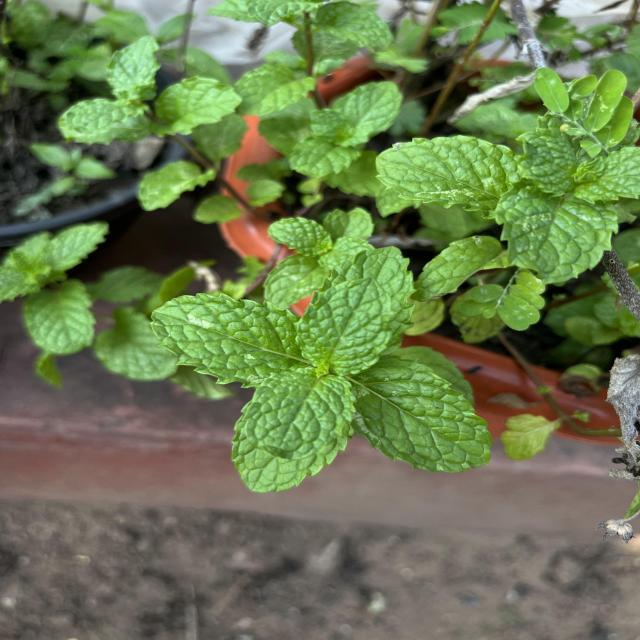Mentha spicata: (349, 354, 494, 474), (229, 368, 355, 494), (148, 290, 302, 390), (374, 134, 520, 220), (294, 274, 398, 377)
